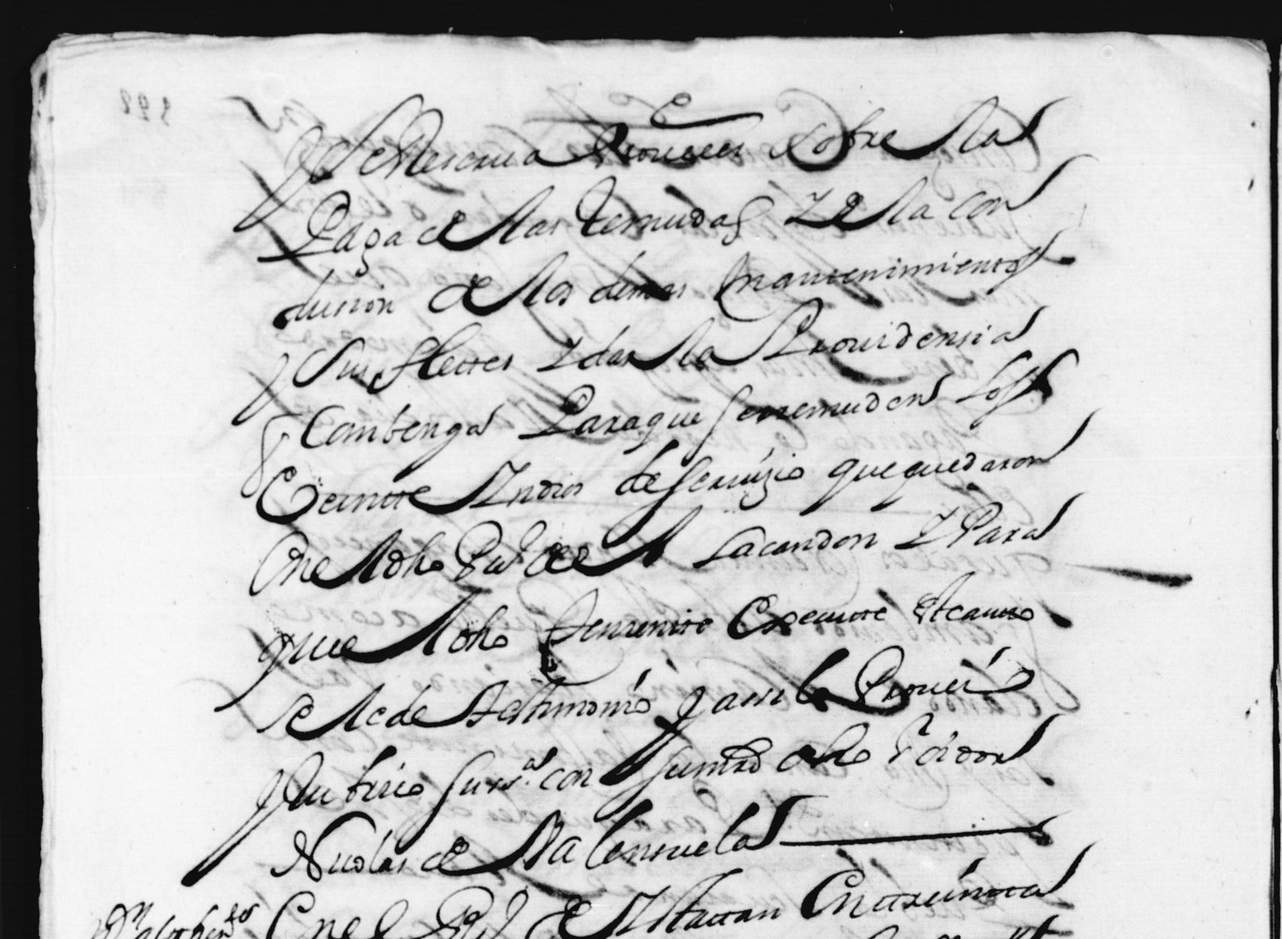lacandon: (692, 526, 877, 569)
